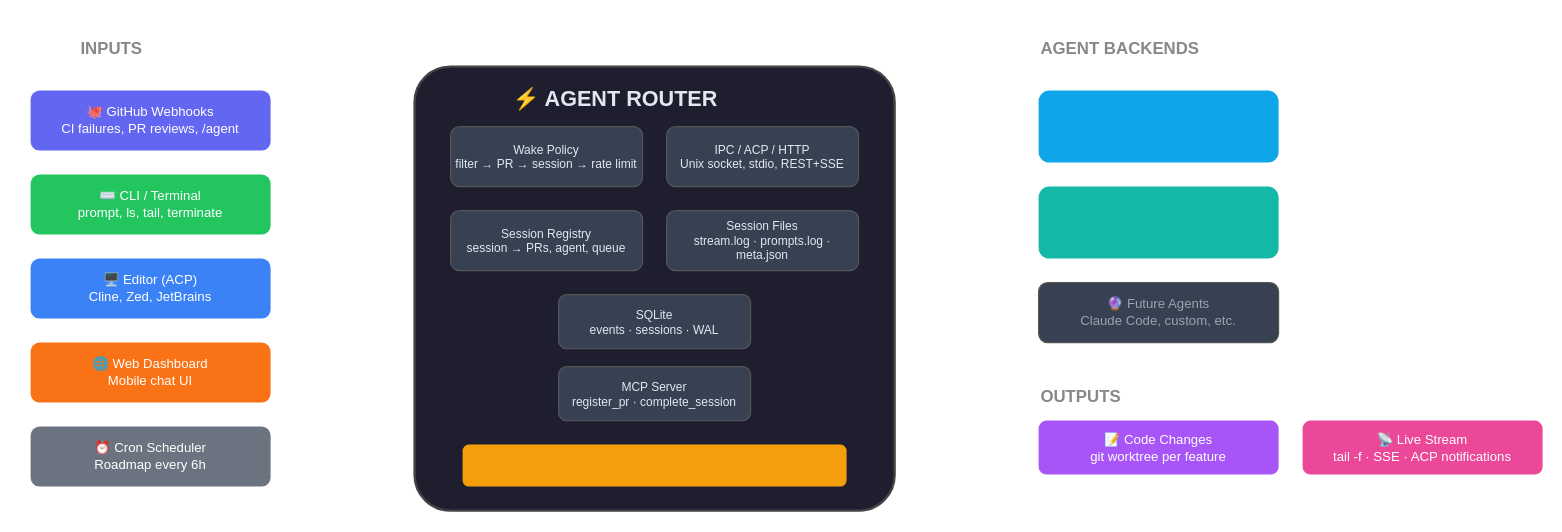
Image size: 1562x532. Some labels were removed from this diagram. Here are the shapes that lost their labels. From the top down, the centre of each, then its label:
pixel 1158 126: 🤖 Kiro CLI ACP over stdio Primary coding agent
pixel 1158 222: 🧠 Hermes Agent ACP over stdio General-purpose agent
pixel 654 465: ☁️ Cloudflare Tunnel agentrouter.gspivey.com → localhost:3000
